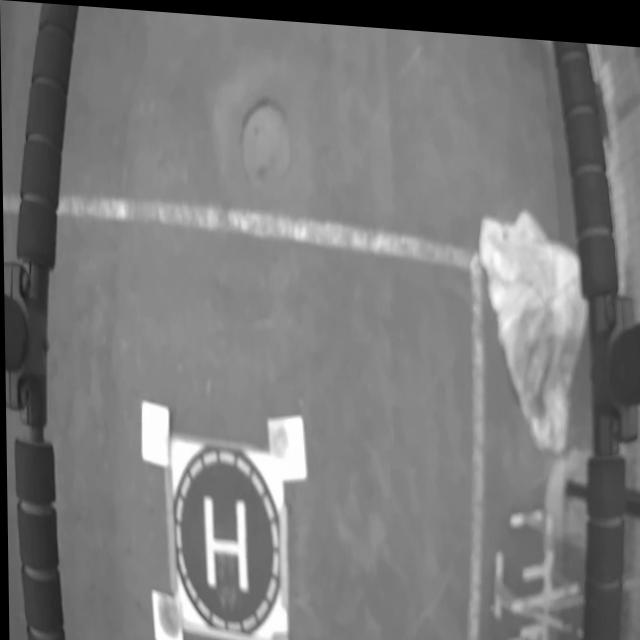Helipad: (201, 492, 248, 589)
